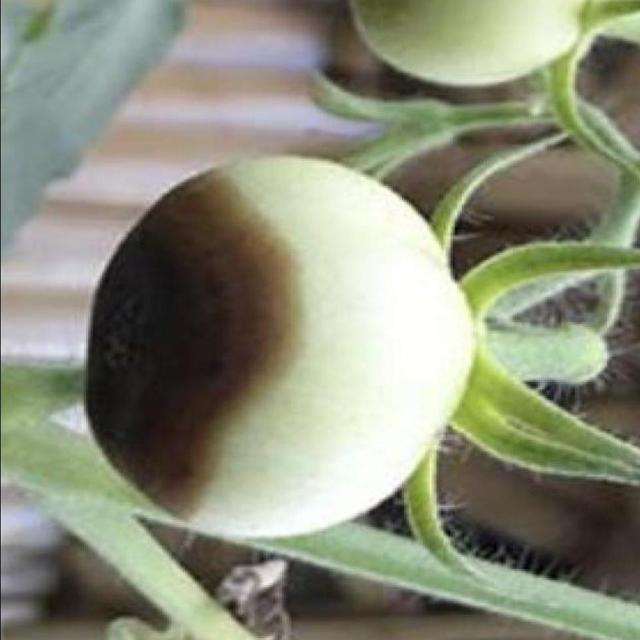Blossom End Rot Fruit: (58, 106, 209, 354)
